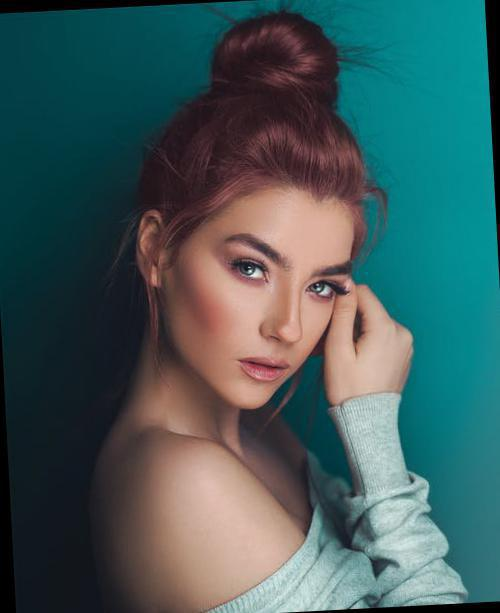Sober: (173, 170, 359, 392)
